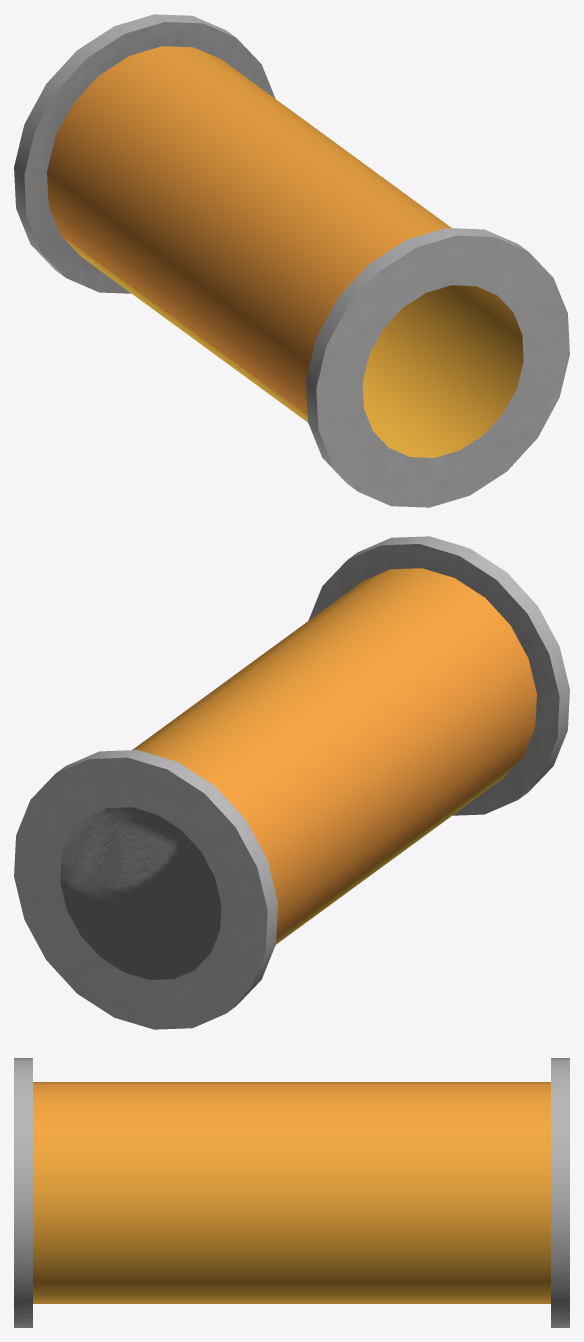
3 renders of one model, top to bottom at view 1: azimuth 30°, elevation 25°; view 2: azimuth 150°, elevation 25°; view 3: azimuth 270°, elevation 25°, orthographic. The views are drawn at different scales.
Parts seen in each view (by area): view 1: Tube_Line; view 2: Tube_Line; view 3: Tube_Line.
Part boxes in pixels (bbox=[...]): Tube_Line: bbox=[14, 14, 569, 507]; Tube_Line: bbox=[14, 536, 569, 1029]; Tube_Line: bbox=[14, 1058, 569, 1327].
Size of the model in its own units: 6.79 by 6.79 by 14.
1 material, 1 textured.
